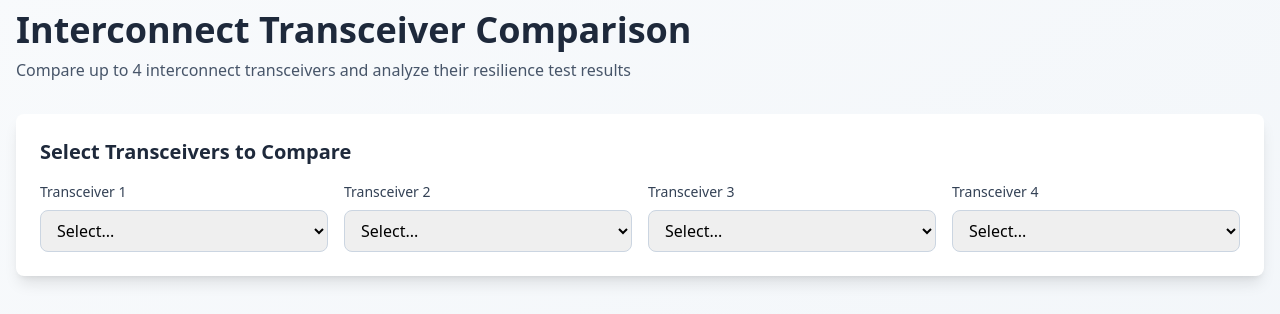
Scenario: ComparisonView › should show Compare button when transceiver is selected
The image size is (1280, 314).
Select "Transceiver 1" in the 1st dropdown at (184, 231), box [40, 210, 328, 252]
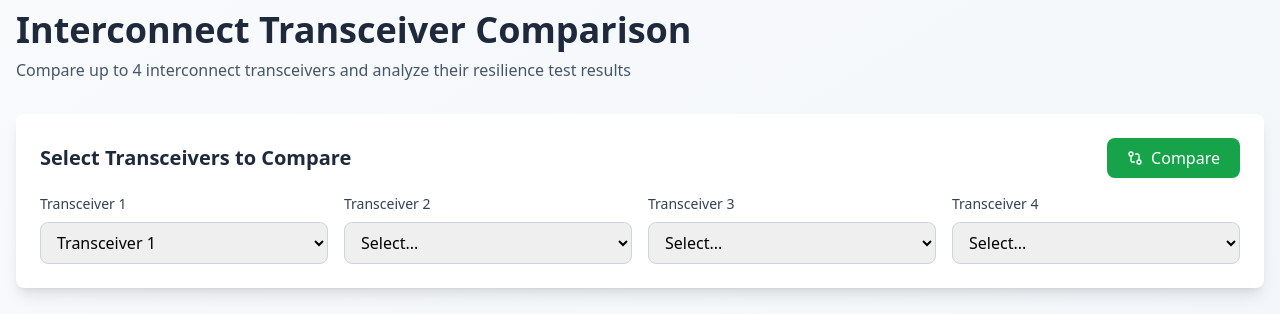
Expected: the button "Compare" is shown, [1107, 138, 1240, 178]
